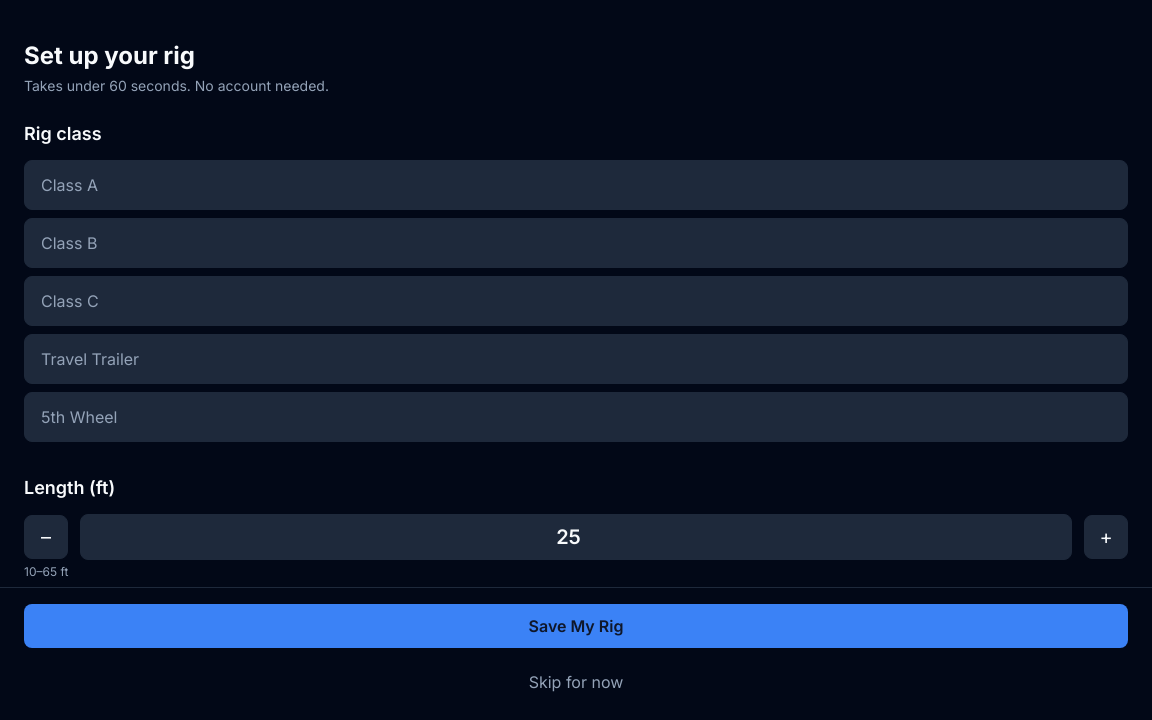
Test case: OnboardingScreen › pre-fills length with class default when Class A is selected
Click the radio button labelled "Class A": [69, 185] box [24,160,1128,210]
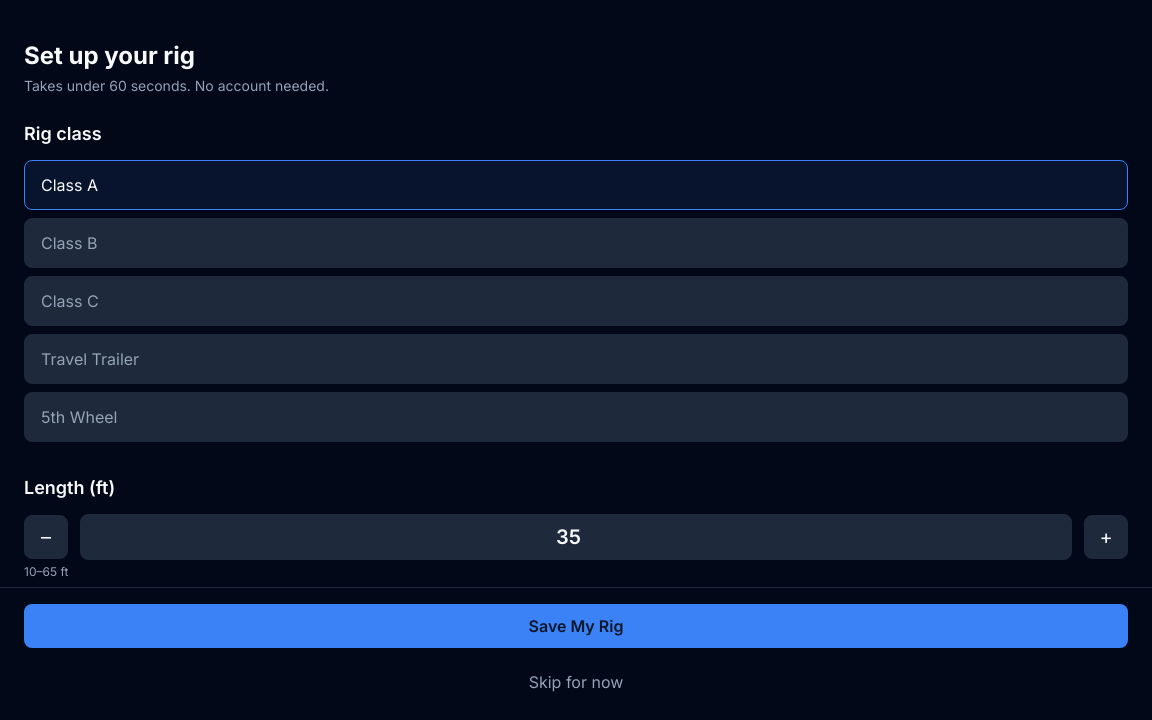
Expected: the number field named "rig length in feet" holds "35", [80,514,1072,560]
